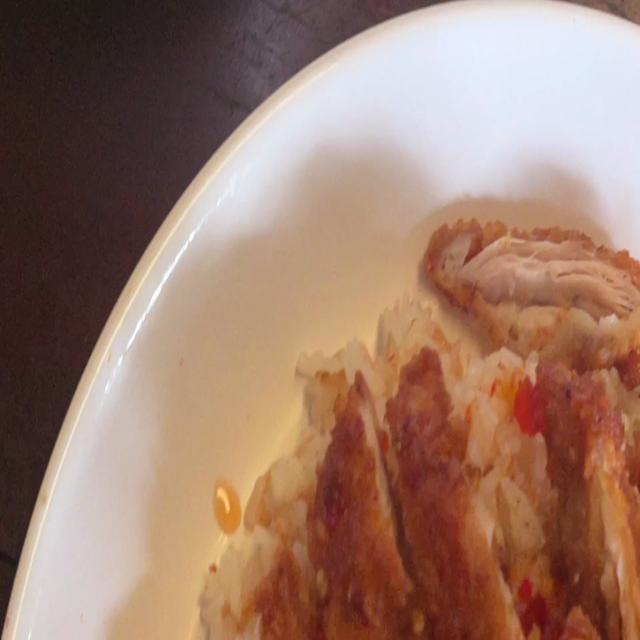chicken_rice: (216, 219, 640, 640)
fried_chicken: (257, 222, 640, 640)
